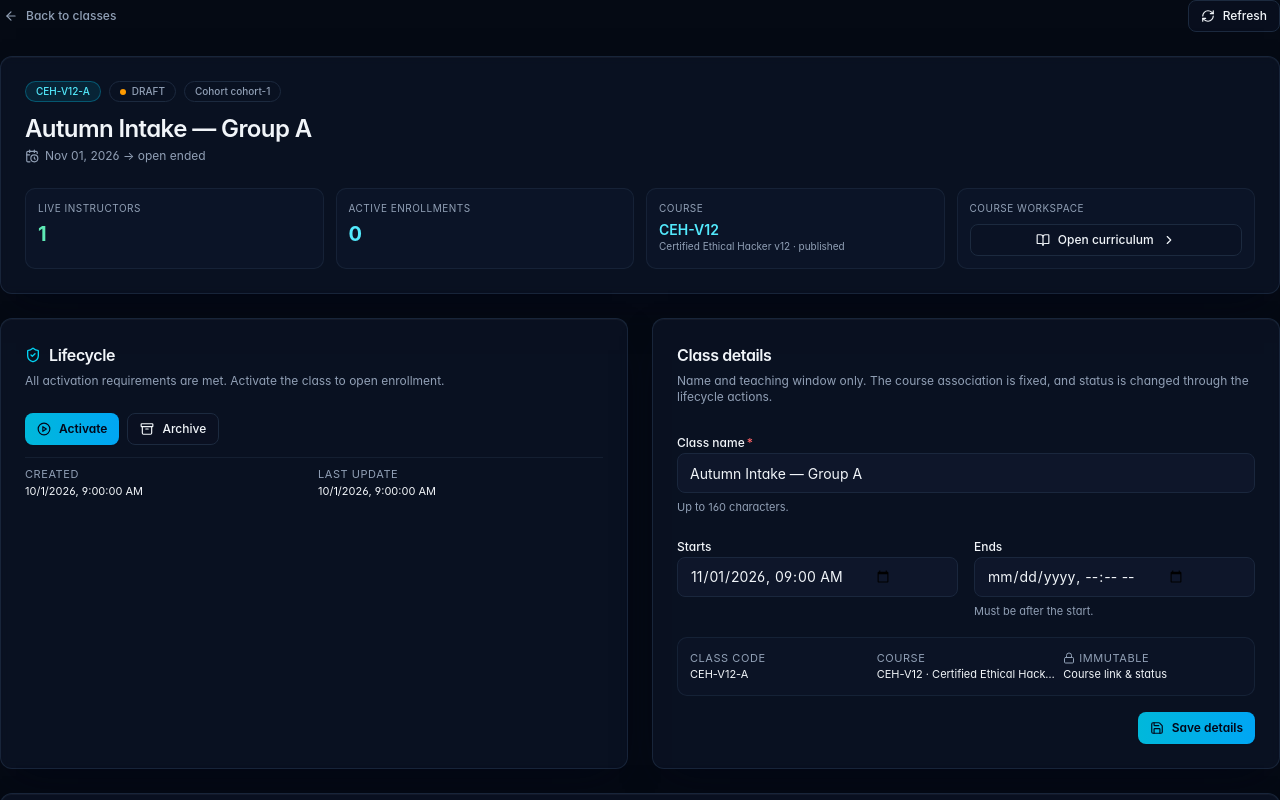
Test: Class lifecycle › activates a draft class through the dedicated endpoint after confirmation
Expected: the heading "Autumn Intake — Group A" is shown, [25,114,312,143]
What coordinates should you click on to do the following:
click the button "Activate"
I would click on:
 (72, 429)
Its box is [25,413,120,445].
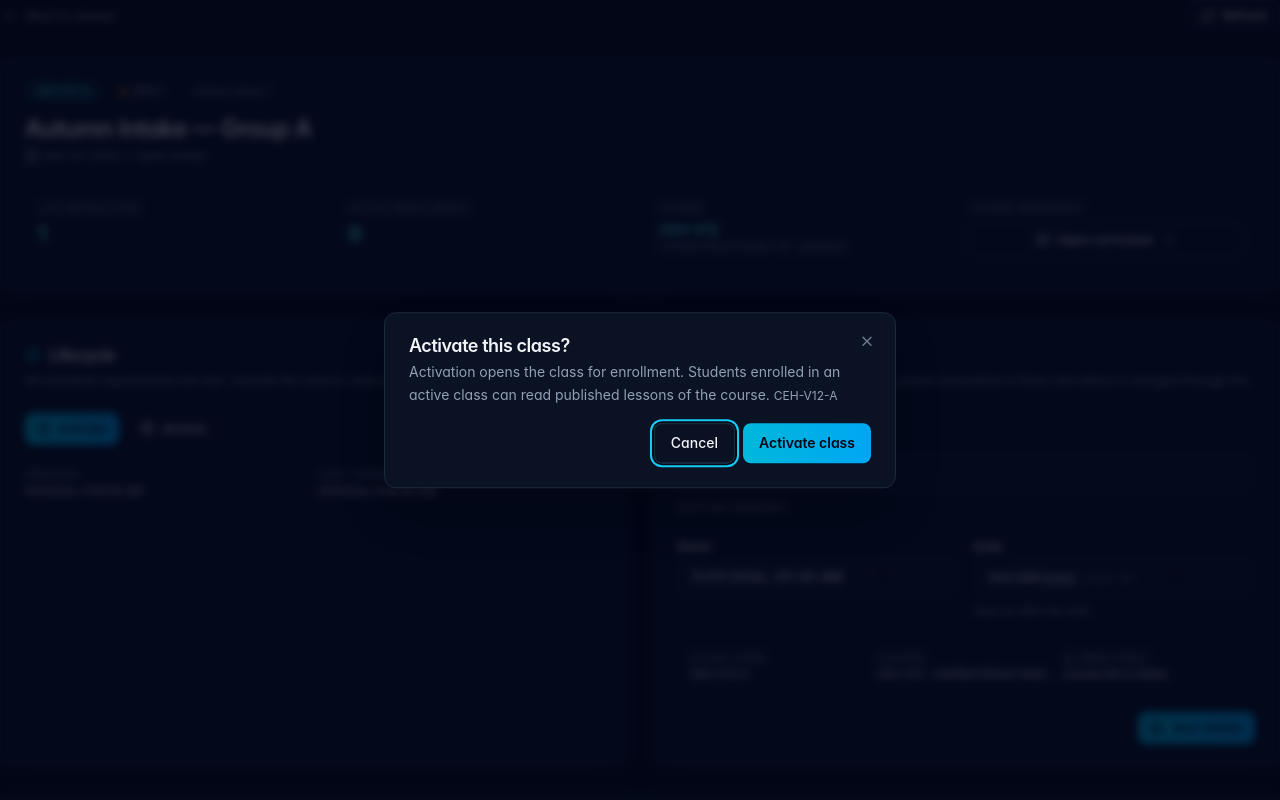
Now the text "Activation opens the class for enrollment" is shown, box [409,363,840,403]
What coordinates should you click on to do the following:
click the button "Activate class"
I would click on:
 (807, 443)
Its box is [743,423,871,463].
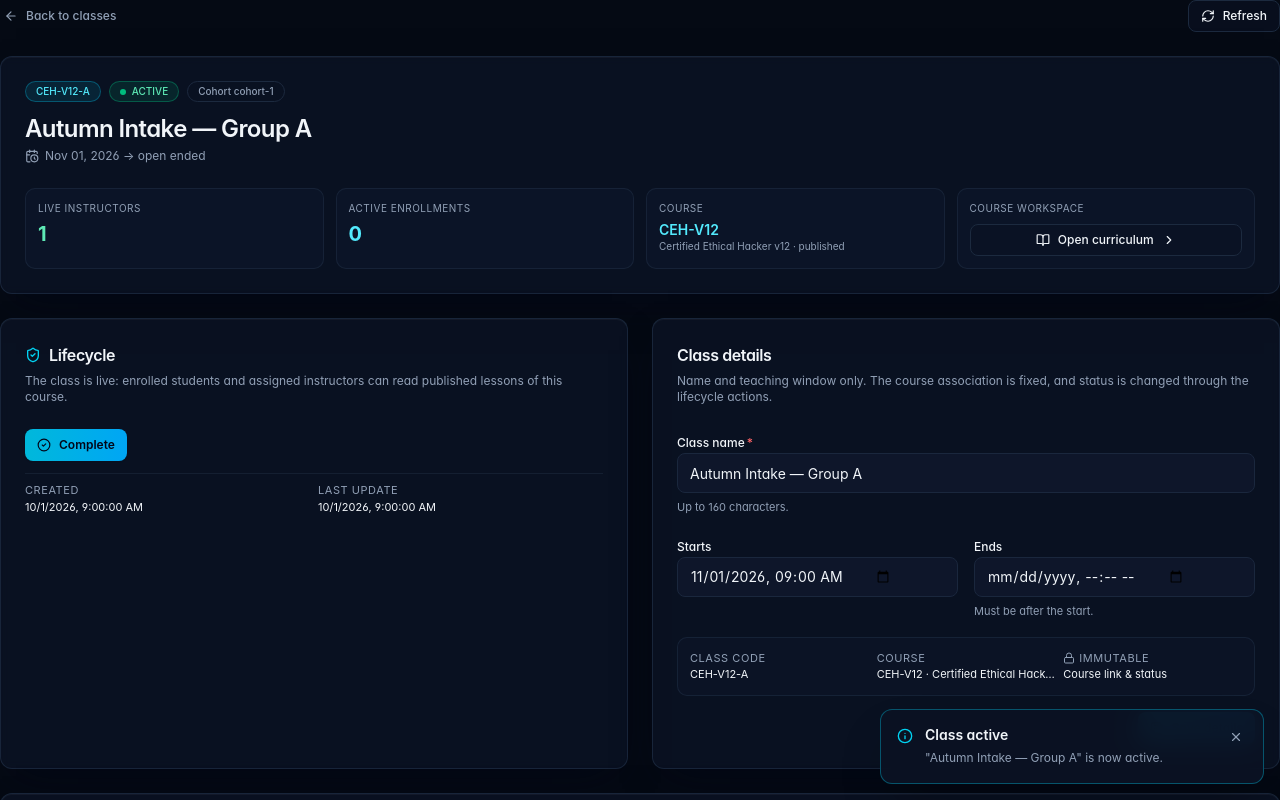
Now the button "Complete" is shown, box [25,429,127,461]
